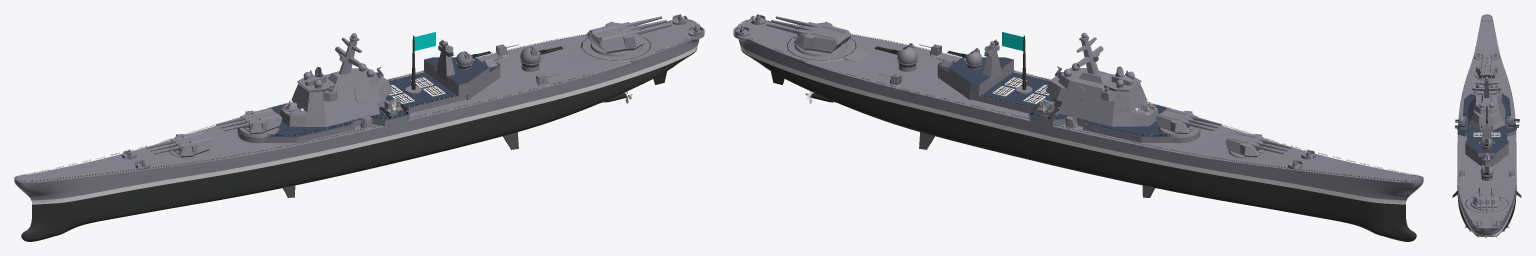
File: BIG.fbx
3 renders of one model, left to right at view 1: azimuth 30°, elevation 25°; view 2: azimuth 150°, elevation 25°; view 3: azimuth 270°, elevation 25°, orthographic. The views are drawn at different scales.
Visible parts, largest first — view 1: Cube, Cube.001, Cube.002, Railgun Tripple Turret.002, Railgun Tripple Turret, Railgun Tripple Turret.001, Cylinder.006, AK-150.002, Railing.002, Kashtan.001; view 2: Cube, Cube.001, Cube.002, Railgun Tripple Turret.002, Railgun Tripple Turret, Railgun Tripple Turret.001, Cylinder.006, AK-150.002, Railing.002; view 3: Cube, Cube.001, Cube.002, Railgun Tripple Turret.002, Railgun Tripple Turret.001, Cylinder.006, AK-150.002, Kashtan.001, Kashtan.002, AK-150.001, Mk45.003, VLS_1.002 (+3 smaller).
Part boxes in pixels (x1,y1,x2,y2): Cube: [14, 19, 704, 241]; Cube.001: [261, 44, 500, 142]; Cube.002: [279, 36, 392, 126]; Railgun Tripple Turret.002: [586, 16, 671, 56]; Railgun Tripple Turret: [216, 108, 282, 143]; Railgun Tripple Turret.001: [146, 131, 212, 158]; Cylinder.006: [568, 35, 651, 62]; AK-150.002: [520, 46, 563, 71]; Railing.002: [15, 124, 382, 181]; Kashtan.001: [379, 98, 409, 118]; Cube: [733, 19, 1423, 241]; Cube.001: [937, 44, 1176, 142]; Cube.002: [1046, 35, 1158, 126]; Railgun Tripple Turret.002: [766, 16, 851, 56]; Railgun Tripple Turret: [1155, 108, 1221, 143]; Railgun Tripple Turret.001: [1225, 131, 1291, 158]; Cylinder.006: [786, 35, 869, 62]; AK-150.002: [874, 43, 917, 71]; Railing.002: [1055, 124, 1422, 181]; Cube: [1457, 14, 1516, 236]; Cube.001: [1457, 93, 1516, 166]; Cube.002: [1468, 78, 1505, 129]; Railgun Tripple Turret.002: [1470, 187, 1503, 211]; Railgun Tripple Turret.001: [1474, 57, 1499, 80]; Cylinder.006: [1465, 197, 1508, 212]; AK-150.002: [1480, 164, 1493, 180]; Kashtan.001: [1455, 117, 1467, 129]; Kashtan.002: [1506, 116, 1519, 128]; AK-150.001: [1481, 137, 1491, 150]; Mk45.003: [1458, 168, 1515, 177]; VLS_1.002: [1473, 132, 1500, 136].
Bounding box in the file's own units: 429 × 78.44 × 60.67.
